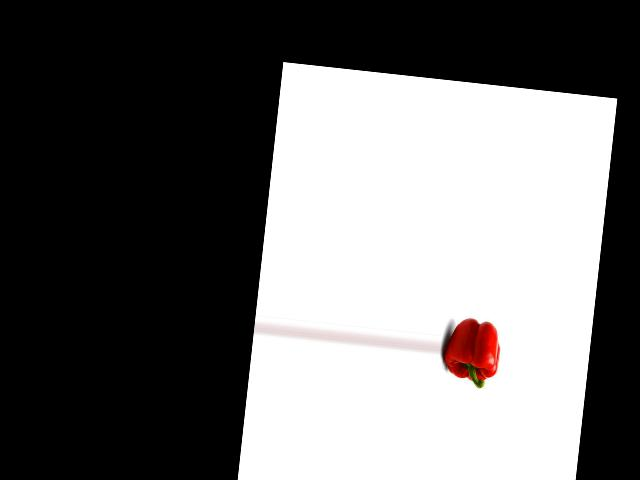bell_pepper: (441, 310, 503, 393)
